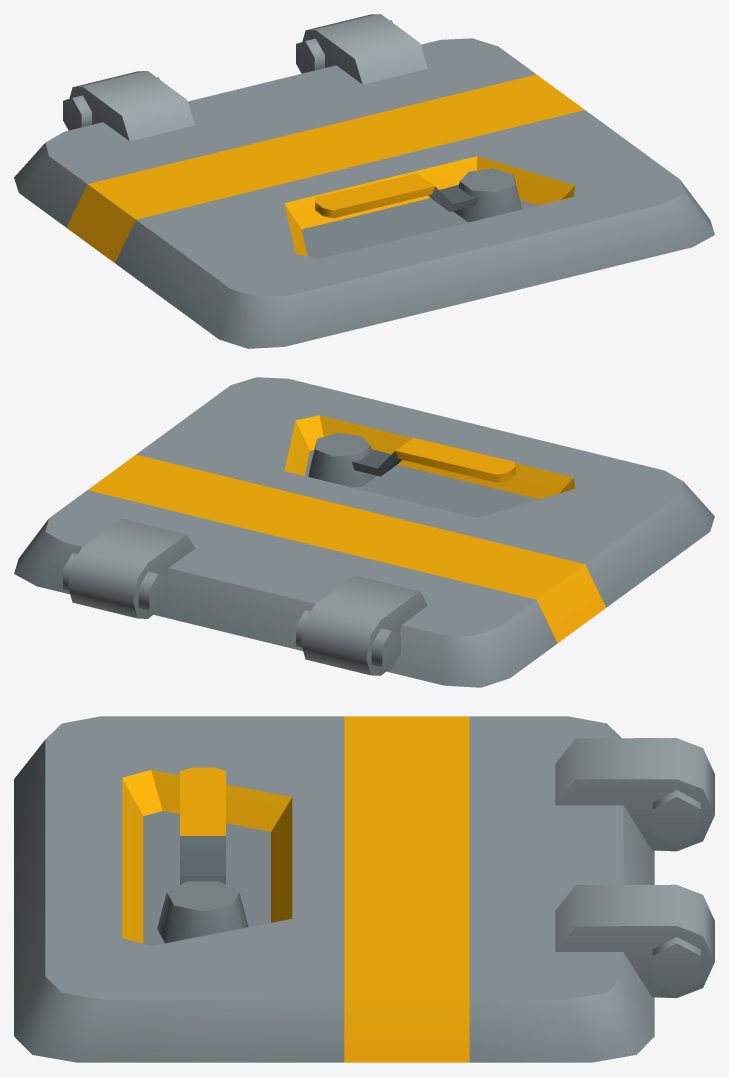
File: Hatch_Cap_04.001.fbx
3 renders of one model, top to bottom at view 1: azimuth 30°, elevation 25°; view 2: azimuth 150°, elevation 25°; view 3: azimuth 270°, elevation 25°, orthographic. The views are drawn at different scales.
Parts seen in each view (by area): view 1: Hatch_Cap_04.001; view 2: Hatch_Cap_04.001; view 3: Hatch_Cap_04.001.
Part boxes in pixels (left/top/right/bottom): Hatch_Cap_04.001: left=14, top=14, right=714, bottom=348; Hatch_Cap_04.001: left=14, top=377, right=714, bottom=687; Hatch_Cap_04.001: left=14, top=716, right=714, bottom=1062.
Size of the model in its own units: 80 by 76.57 by 9.61.
